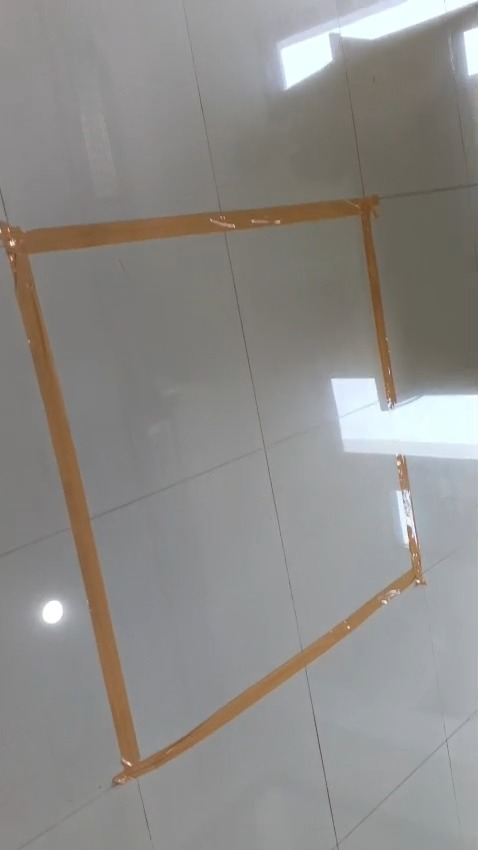floor marking: (0, 196, 423, 783), (262, 215, 263, 217)
